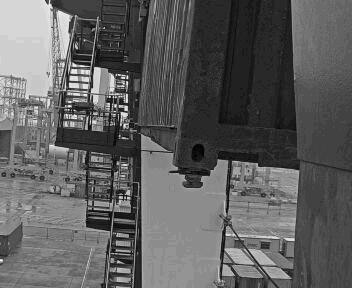twist_lock_1: (195, 164, 239, 196)
